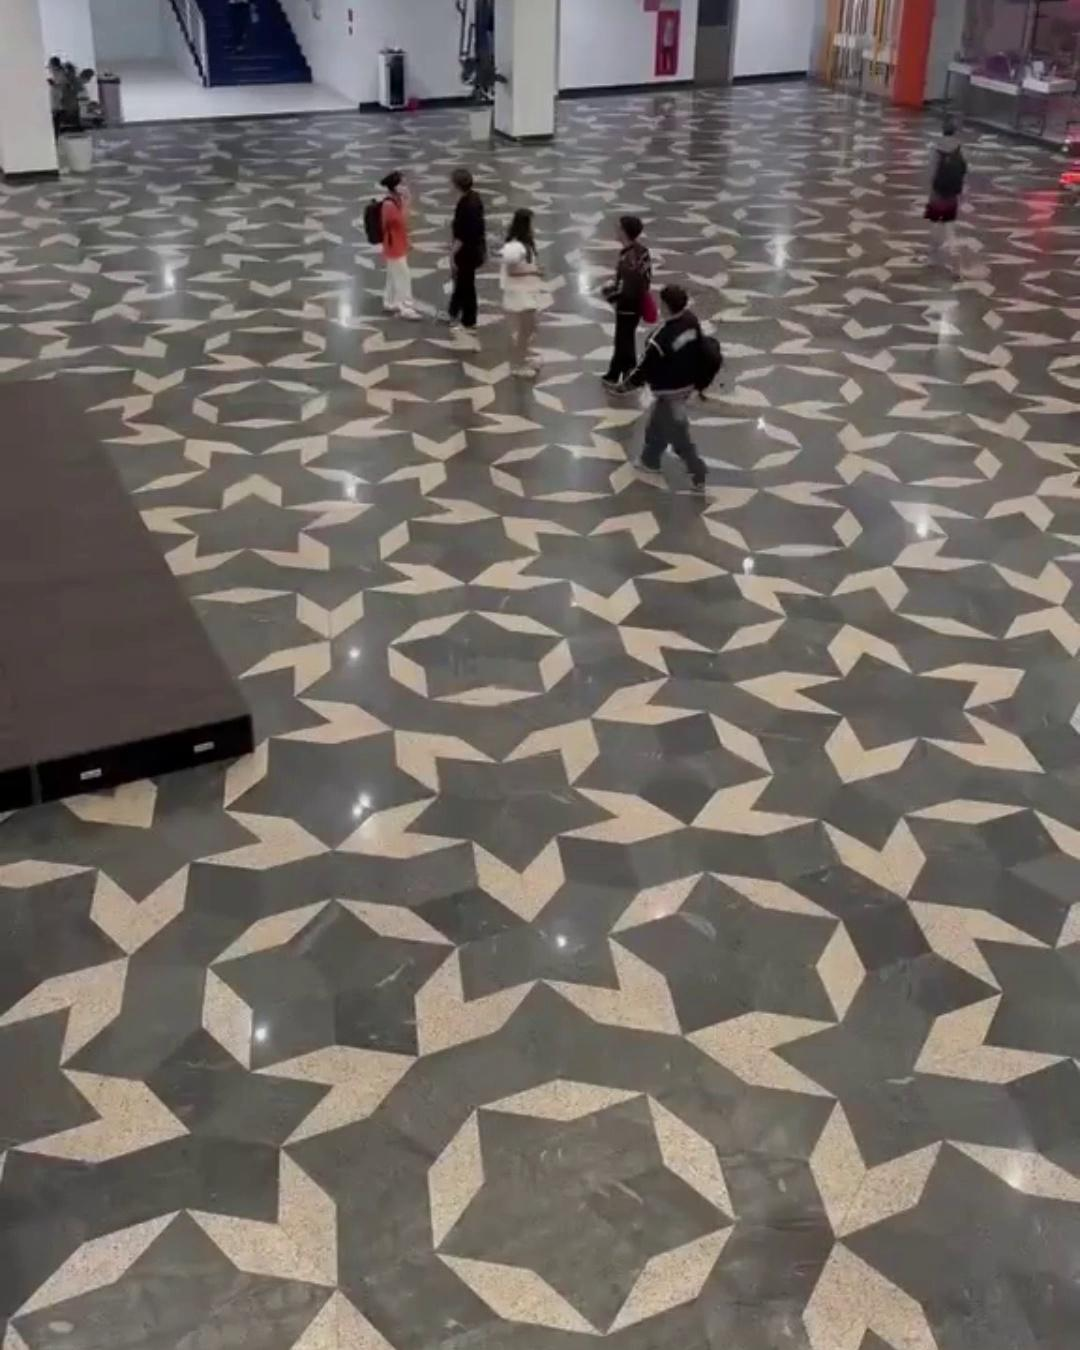your_class: (637, 284, 719, 484), (600, 214, 657, 386), (361, 172, 424, 322), (439, 168, 487, 328), (499, 207, 544, 379), (922, 119, 968, 280), (224, 0, 259, 56)
